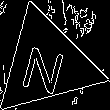N_N: (21, 34, 72, 93)
